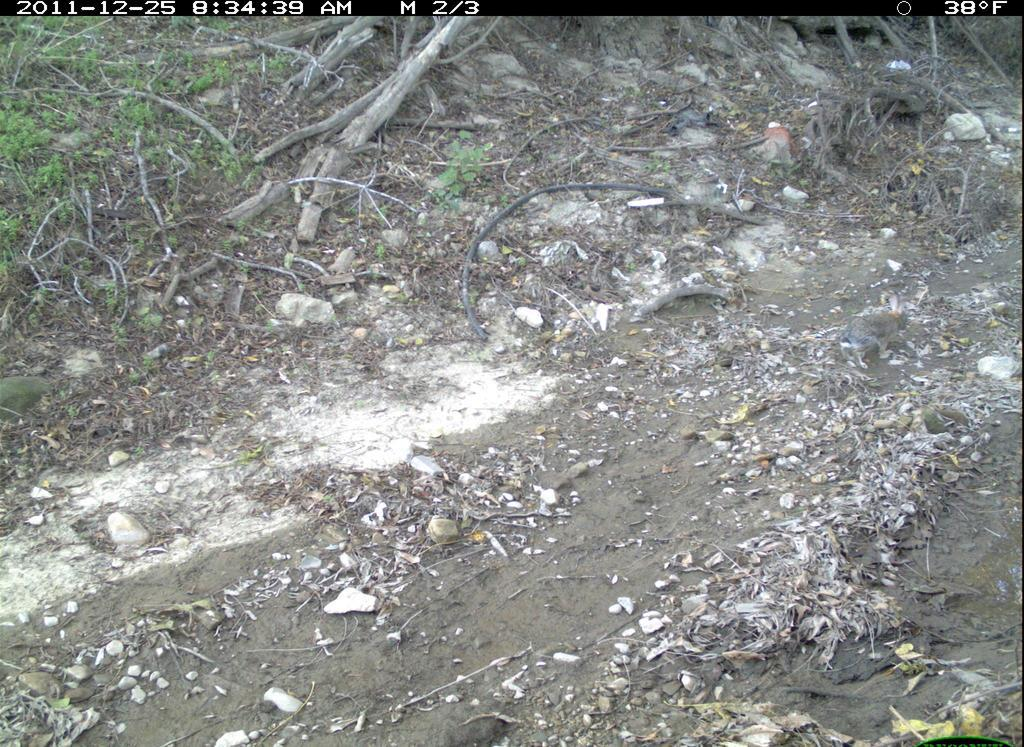rabbit: (827, 291, 914, 379)
